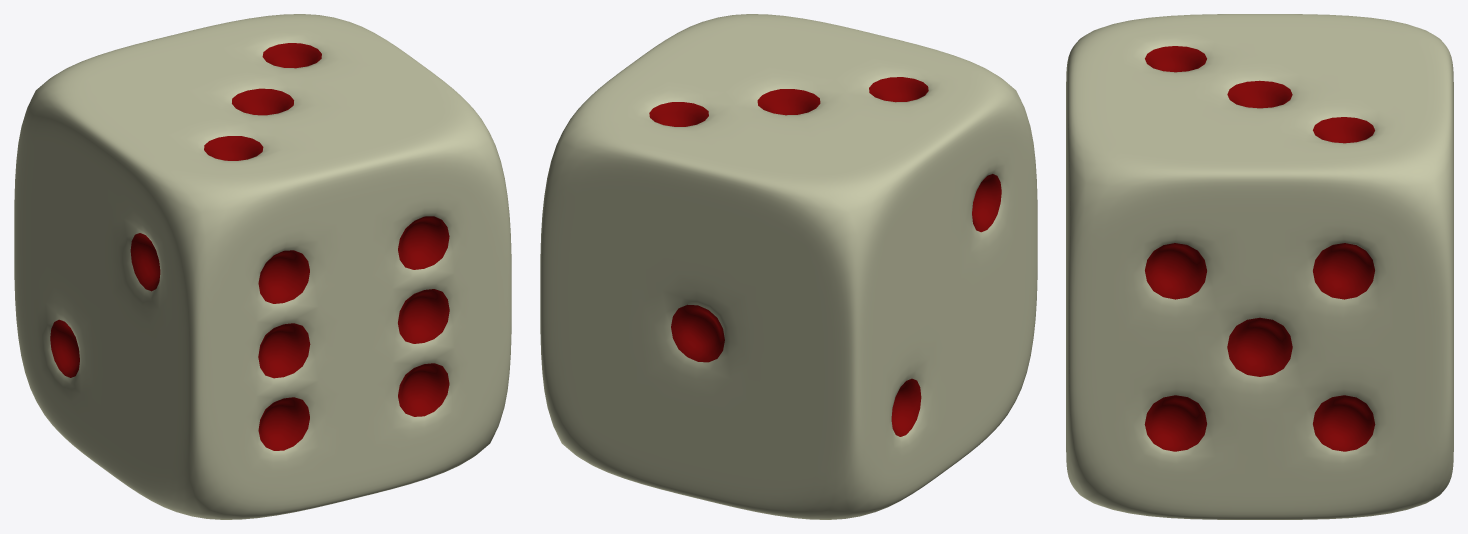
File: Dice.FBX
The picture shows the model from 3 angles, left to right: view 1: azimuth 30°, elevation 25°; view 2: azimuth 150°, elevation 25°; view 3: azimuth 270°, elevation 25°; orthographic projection. The views are drawn at different scales.
Parts seen in each view (by area): view 1: Box001; view 2: Box001; view 3: Box001.
Part boxes in pixels (<box>): Box001: <box>14,14,511,519</box>; Box001: <box>540,14,1037,519</box>; Box001: <box>1066,14,1453,519</box>.
Size of the model in its own units: 50 by 50 by 50.
